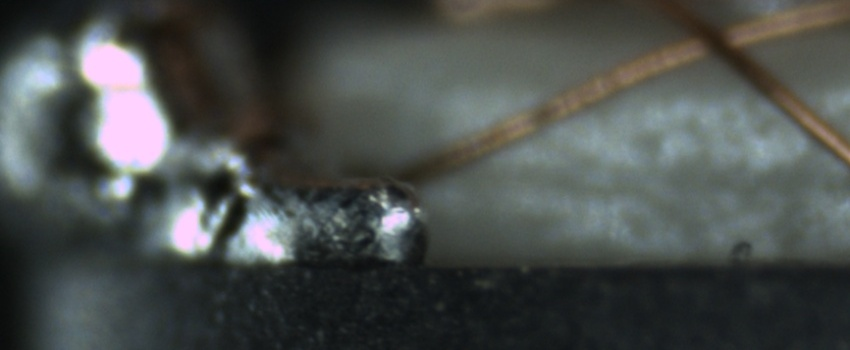CL: (668, 11, 753, 74)
DL: (498, 152, 850, 216), (476, 73, 849, 126)
